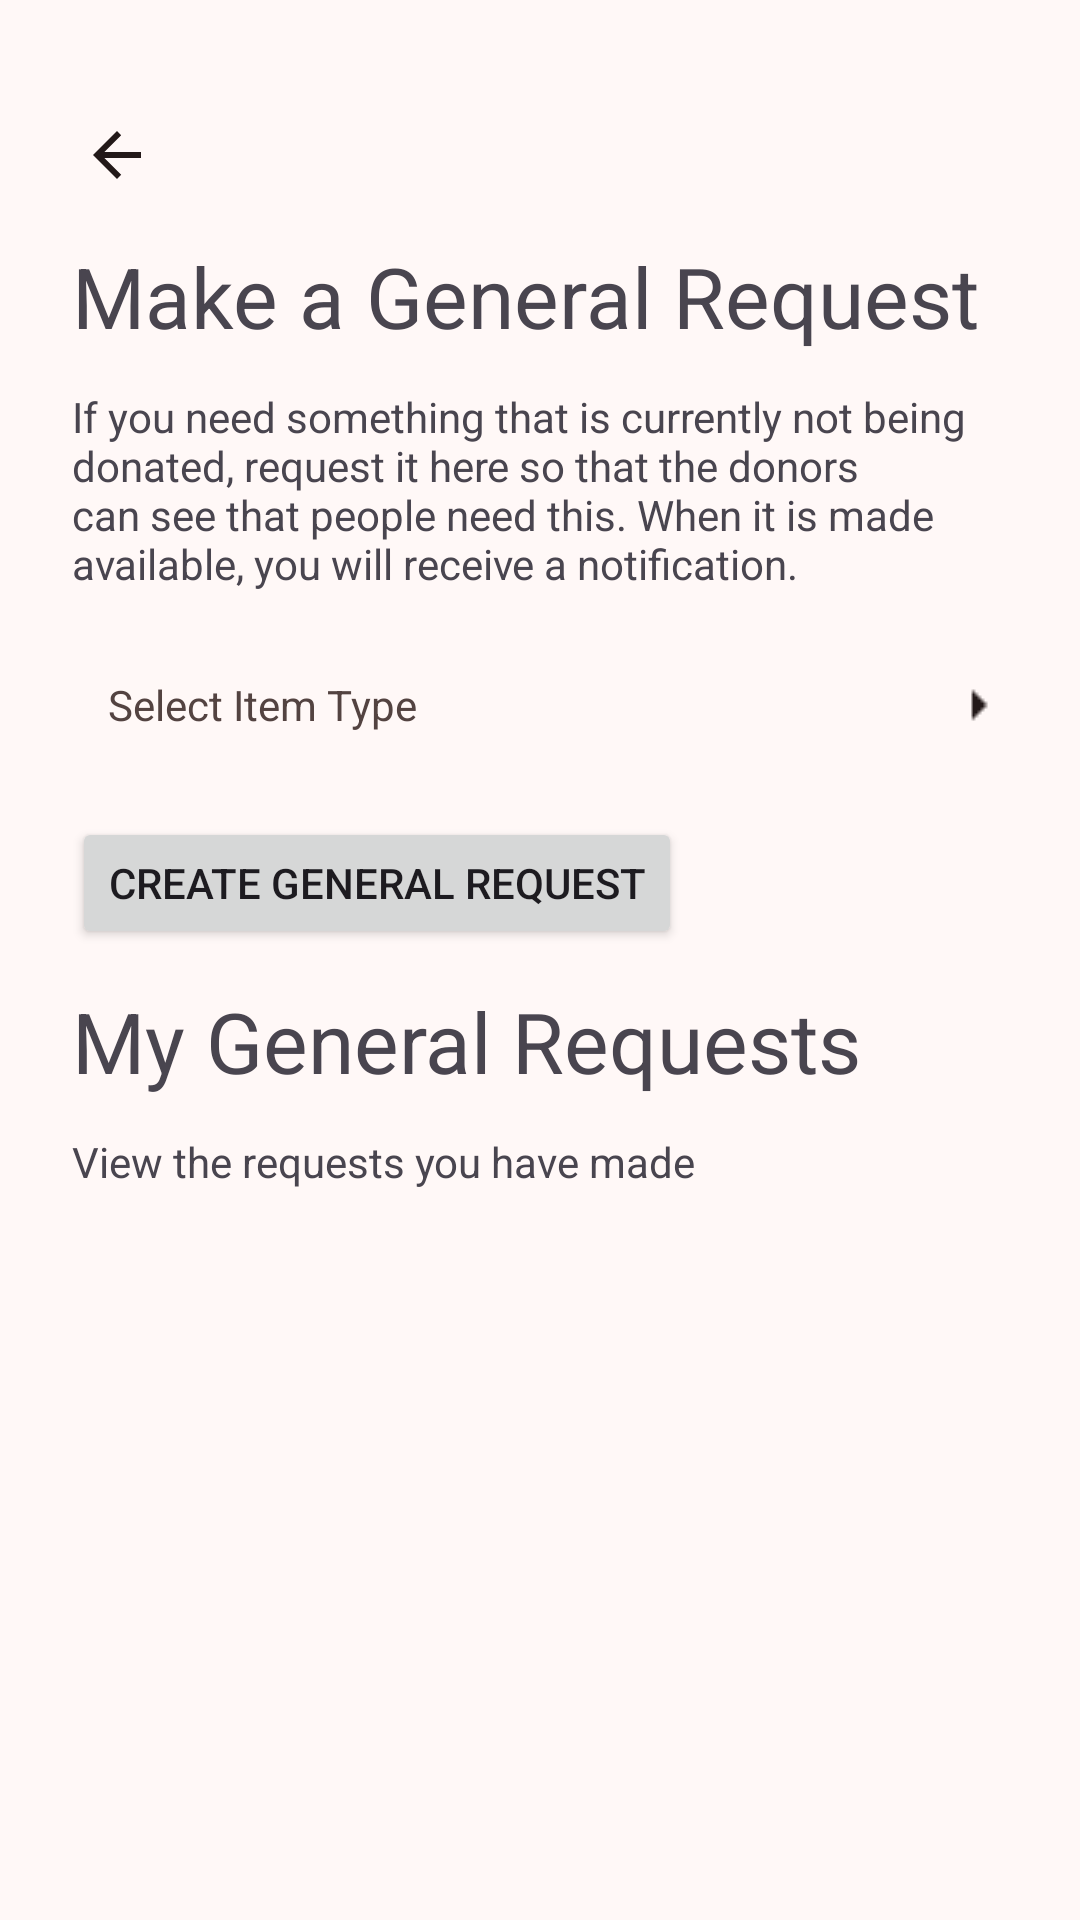

Icon click points for this 1080×1920 phone screenshot, format point (x, y):
back button: point (117, 155)
